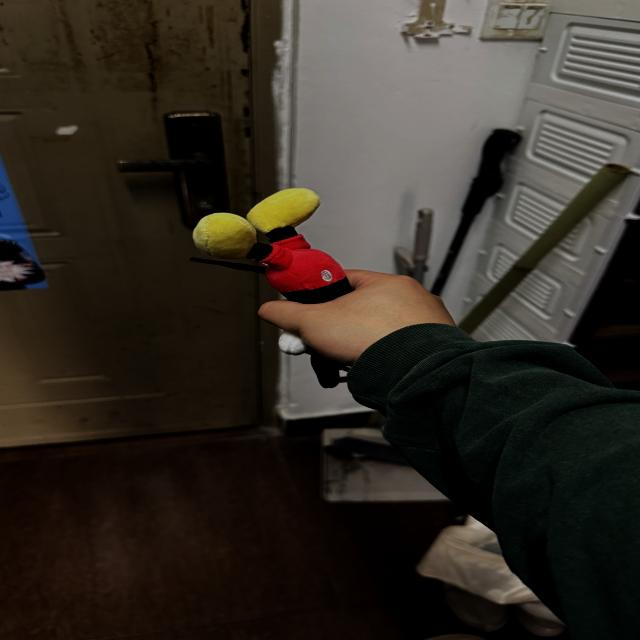mickey: (194, 189, 352, 303)
